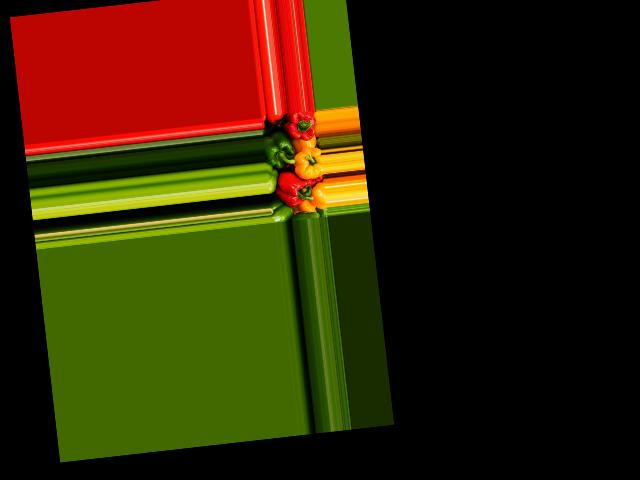bell_pepper: (282, 110, 318, 146)
